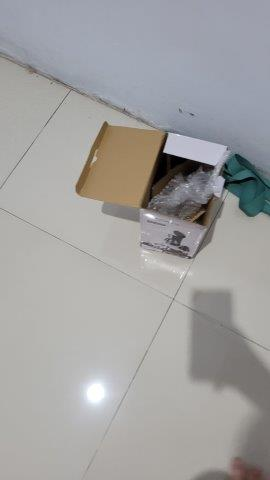kardus: (74, 122, 228, 261)
